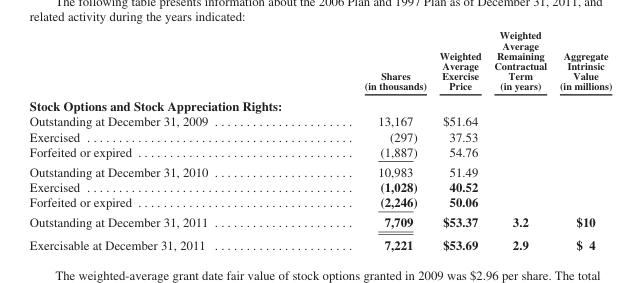table: (28, 28, 611, 251)
table column: (28, 28, 285, 251), (285, 28, 432, 251), (487, 28, 552, 251), (552, 28, 611, 251), (432, 28, 487, 251)
table column header: (28, 28, 611, 94)
table projected row header: (28, 94, 611, 113)
table row: (28, 28, 611, 94), (28, 211, 611, 232), (28, 94, 611, 113), (28, 232, 611, 251), (28, 143, 611, 161), (28, 161, 611, 179), (28, 194, 611, 211), (28, 113, 611, 128), (28, 128, 611, 143), (28, 179, 611, 194)
